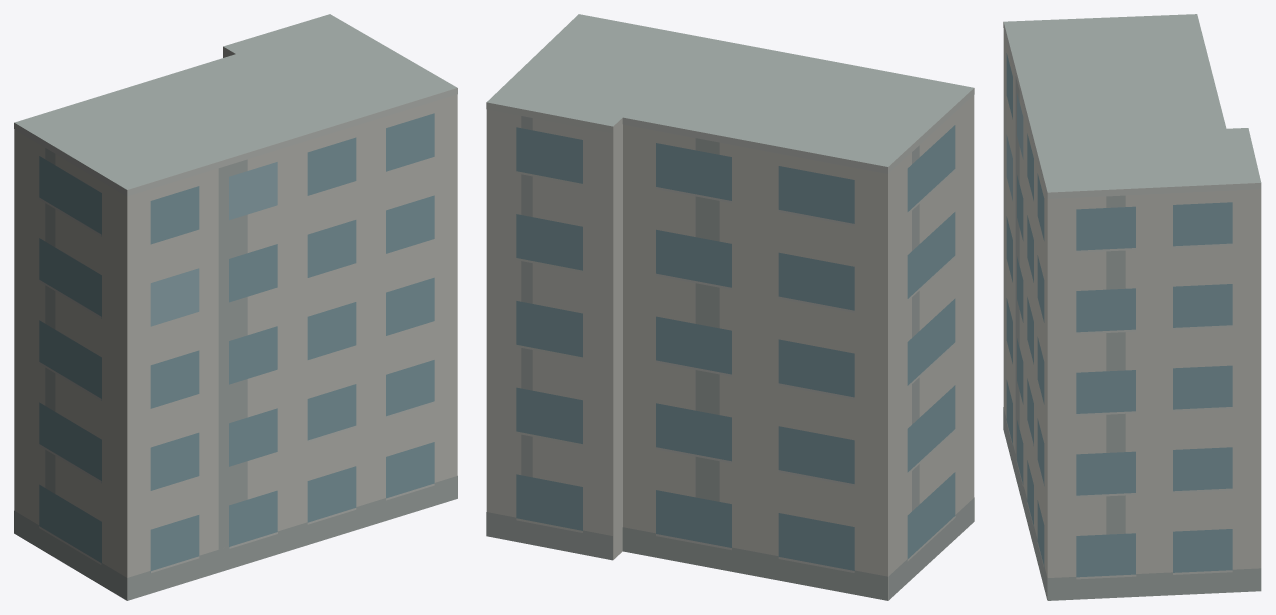
File: survey-upis-32818707.glb
3 renders of one model, left to right at view 1: azimuth 30°, elevation 25°; view 2: azimuth 150°, elevation 25°; view 3: azimuth 270°, elevation 25°, orthographic. The views are drawn at different scales.
Visible parts, largest first — view 1: survey-upis-32818707.tmp; view 2: survey-upis-32818707.tmp; view 3: survey-upis-32818707.tmp.
Part boxes in pixels (left/top/right/bottom): survey-upis-32818707.tmp: left=14, top=14, right=457, bottom=600; survey-upis-32818707.tmp: left=486, top=14, right=974, bottom=600; survey-upis-32818707.tmp: left=1003, top=14, right=1261, bottom=600.
Size of the model in its own units: 14.32 by 15.25 by 8.73.
